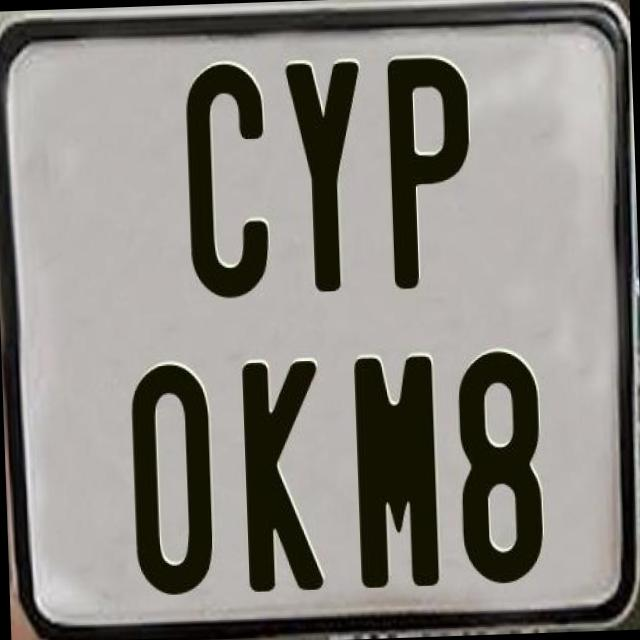0: (129, 358, 215, 592)
8: (452, 344, 546, 582)
C: (184, 62, 271, 300)
K: (238, 360, 320, 601)
M: (352, 350, 446, 592)
P: (383, 54, 471, 288)
Y: (284, 59, 367, 298)
